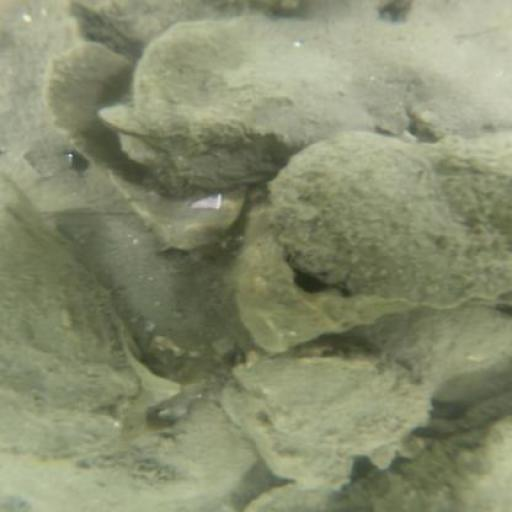Oyster-Closed: (128, 17, 384, 190), (273, 131, 505, 307), (3, 185, 140, 460), (225, 353, 436, 486), (57, 402, 252, 506)
